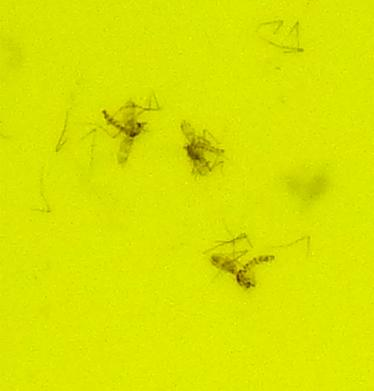Nematocera: (100, 100, 147, 154), (208, 253, 274, 291), (182, 130, 225, 176)
